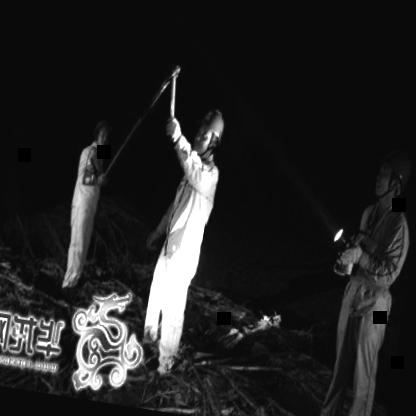helmet: (366, 139, 416, 214), (192, 98, 230, 166), (90, 114, 114, 150)
